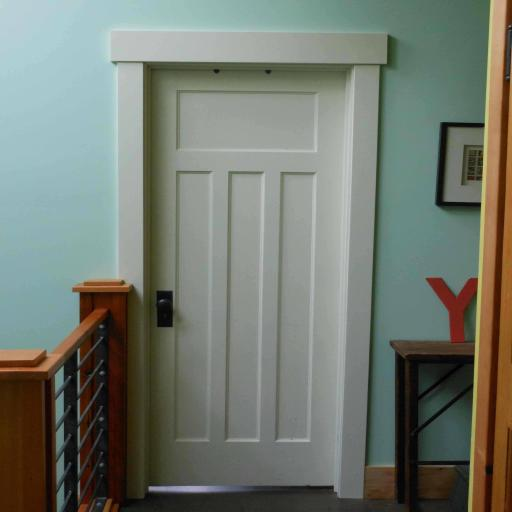Door: (146, 68, 347, 488)
Stairs: (0, 279, 133, 512)
